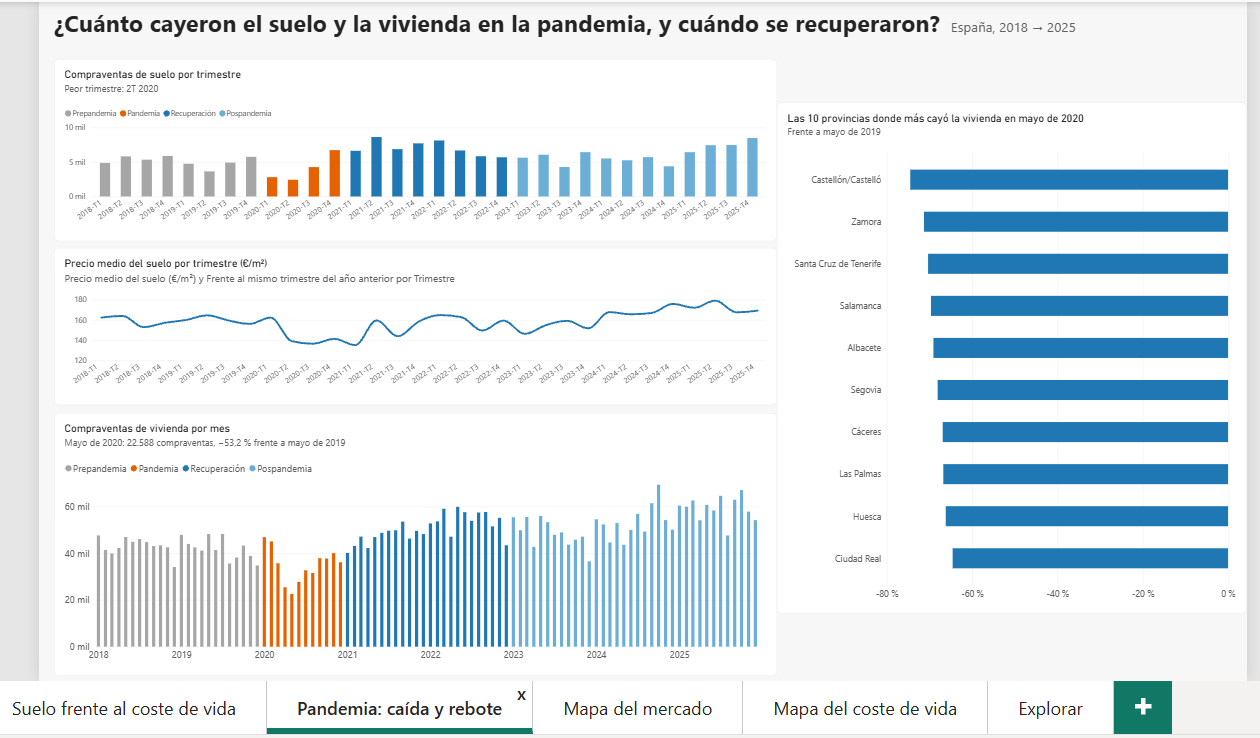

What the dashboard file says about the page in this screenshot:
{"tool":"powerbi","page":{"name":"Pandemia: caída y rebote","canvas":[1920,1080],"ordinal":1},"visuals":[{"type":"textbox","box":[24,8,1872,88],"z":0},{"type":"columnChart","fields":{"Category":["MART_PANDEMIA.ETIQUETA_TRIMESTRE"],"Series":["MART_PANDEMIA.ETAPA"],"Y":["Medidas.C2 Compraventas de suelo"]},"box":[24,104,1180,300],"z":1000},{"type":"lineChart","fields":{"Category":["MART_PANDEMIA.ETIQUETA_TRIMESTRE"],"Y":["Medidas.C2 Precio medio del suelo"]},"box":[24,420,1180,250],"z":2000},{"type":"columnChart","fields":{"Category":["MART_PANDEMIA.FECHA_INICIO_MES"],"Series":["MART_PANDEMIA.ETAPA"],"Y":["Medidas.C2 Compraventas de vivienda"]},"box":[21.5,687.1,1180,370],"z":3000},{"type":"clusteredBarChart","title":"Las 10 provincias donde más cayó la vivienda en mayo de 2020","fields":{"Category":["MART_PANDEMIA.TERRITORIO"],"Y":["Medidas.C2 Variación interanual de la vivienda"]},"box":[1228,104,668,952],"z":4000}]}

Visuals, with their boxes on the page's 1920x1080 design canvas (x1, y1, x2, y2). These are canvas units, not pixel positions in the 1260x738 screenshot, which may show the page scaled, cropped or inside an application window:
textbox: (24,8,1896,96)
columnChart - MART_PANDEMIA.ETIQUETA_TRIMESTRE x MART_PANDEMIA.ETAPA: (24,104,1204,404)
lineChart - MART_PANDEMIA.ETIQUETA_TRIMESTRE x Medidas.C2 Precio medio del suelo: (24,420,1204,670)
columnChart - MART_PANDEMIA.FECHA_INICIO_MES x MART_PANDEMIA.ETAPA: (22,687,1202,1057)
"Las 10 provincias donde más cayó la vivienda en mayo de 2020" clusteredBarChart: (1228,104,1896,1056)
